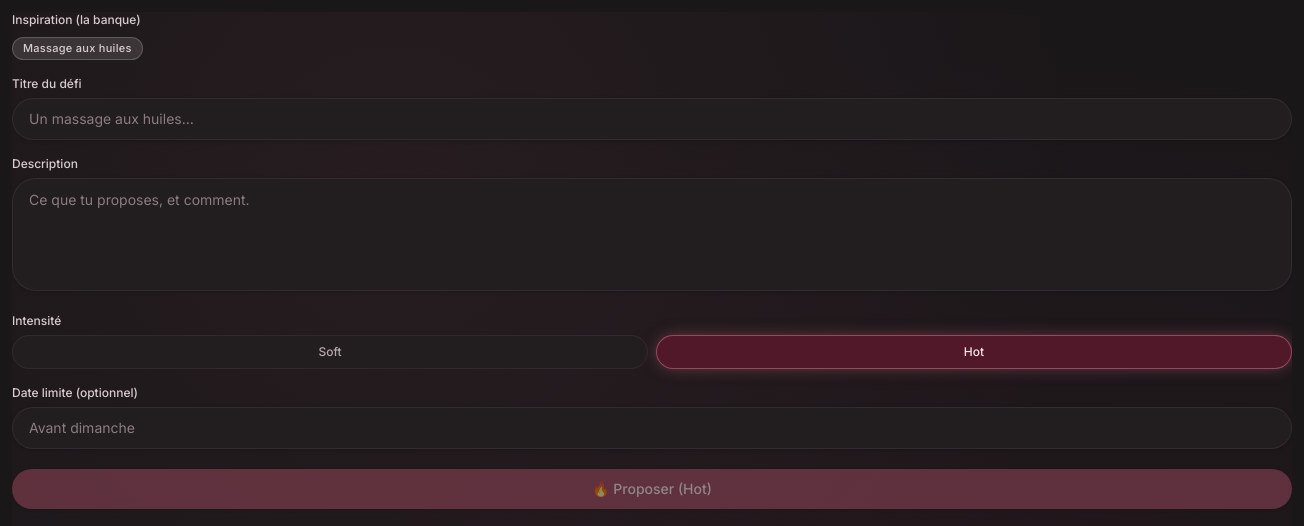
Test case: ChallengeComposer › titre requis : Proposer désactivé tant que le titre est vide
Expected: the button "🔥 Proposer (Hot)" is disabled, [12,468,1292,508]
Step 1. Type "Surprise" into the field labelled "Titre du défi" → {"x": 652, "y": 118}, box [12,98,1292,140]
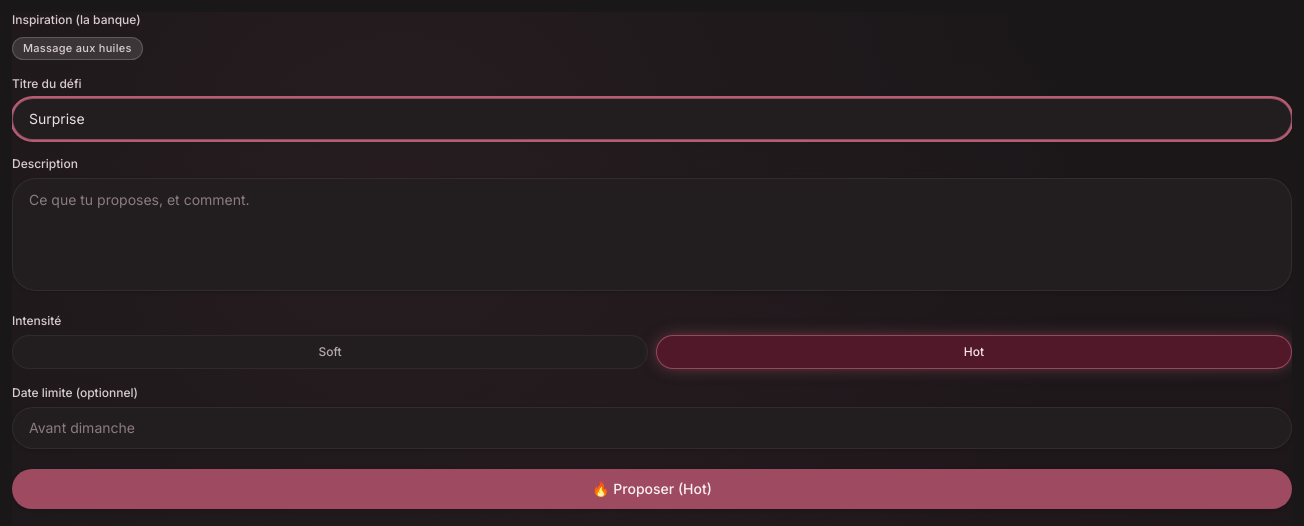
Result: the button "🔥 Proposer (Hot)" is enabled at [12,468,1292,508]
